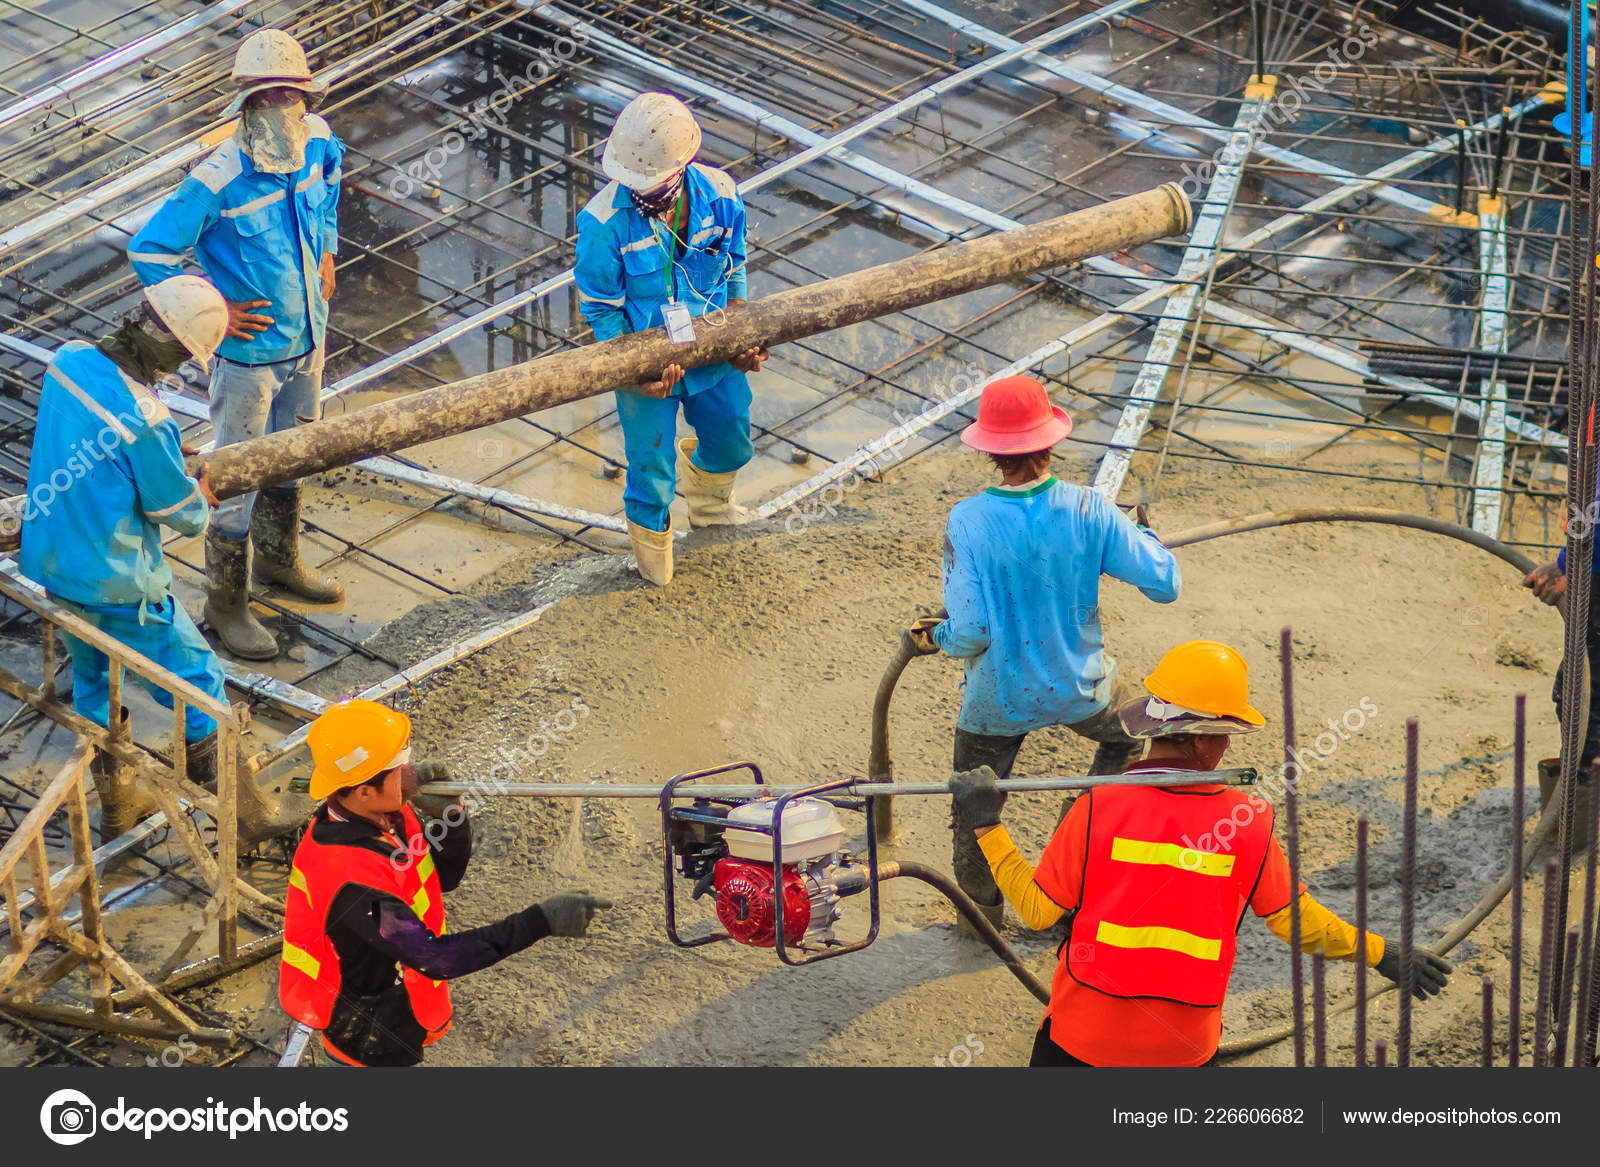With Helmet: (1115, 636, 1270, 771), (594, 87, 709, 211), (303, 698, 417, 820), (226, 24, 328, 155), (125, 272, 231, 387)
Without Helmet: (959, 373, 1078, 479)
